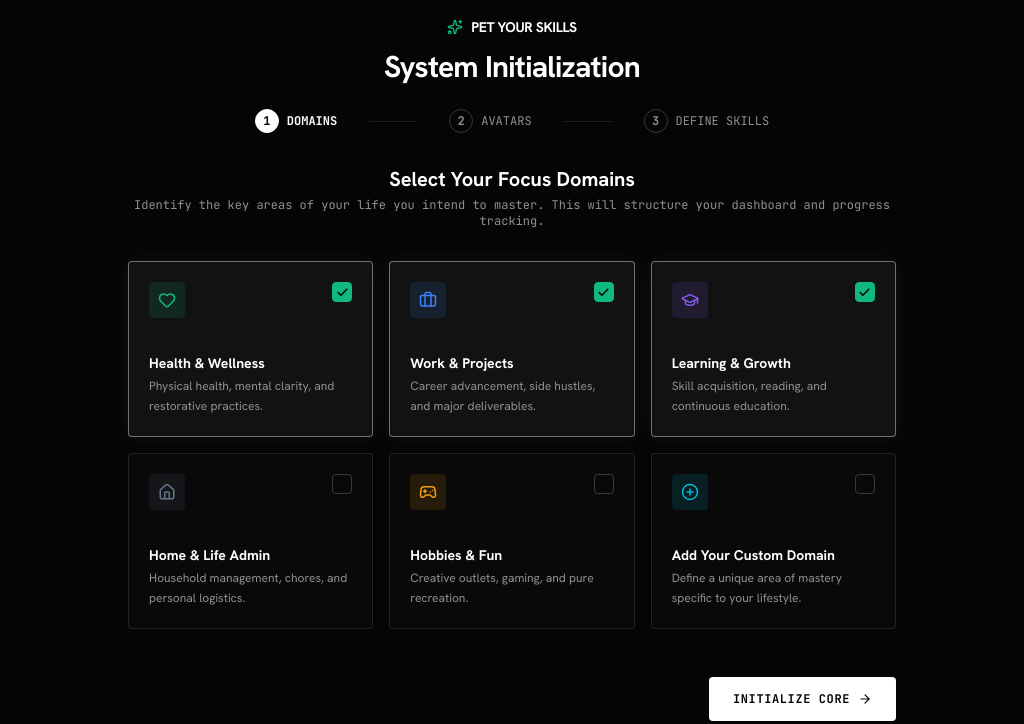
Test case: OnboardingWizard Step 3: Define Skills multi-skill functionality › adds a new skill to the domain when clicking Add Skill / Project
What coordinates should you click on to do the following:
click the button "Initialize Core"
I would click on:
 (802, 699)
Its box is [709,677,896,721].
(page scrolled)
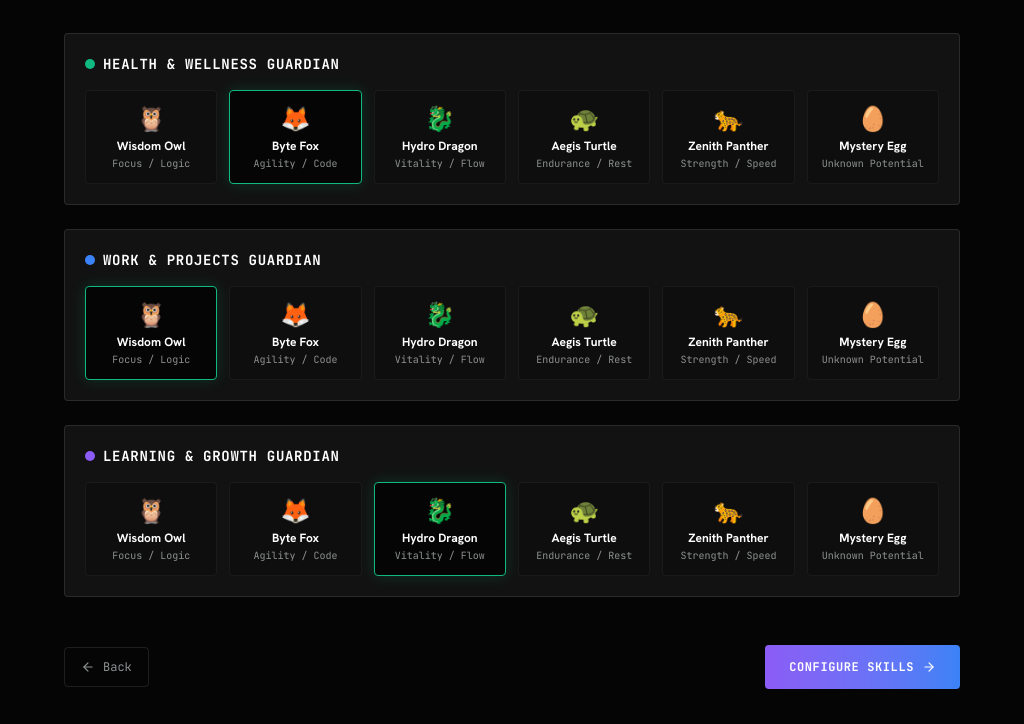
What coordinates should you click on to do the following:
click the button "Configure Skills"
I would click on:
 (863, 667)
Its box is [765,645,960,689].
(page scrolled)
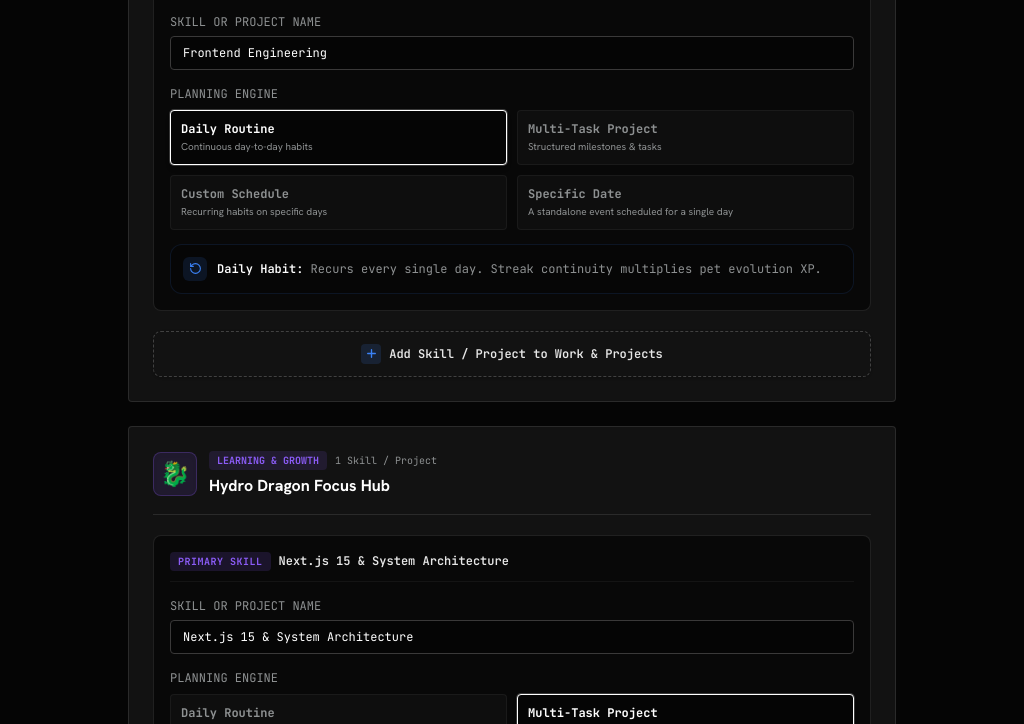
Check: the text "Skill / Project #2" is not shown
What coordinates should you click on to do the following:
click the button "Add Skill / Project to Work & Projects"
I would click on:
 (512, 354)
Its box is [153,330,871,376].
(page scrolled)
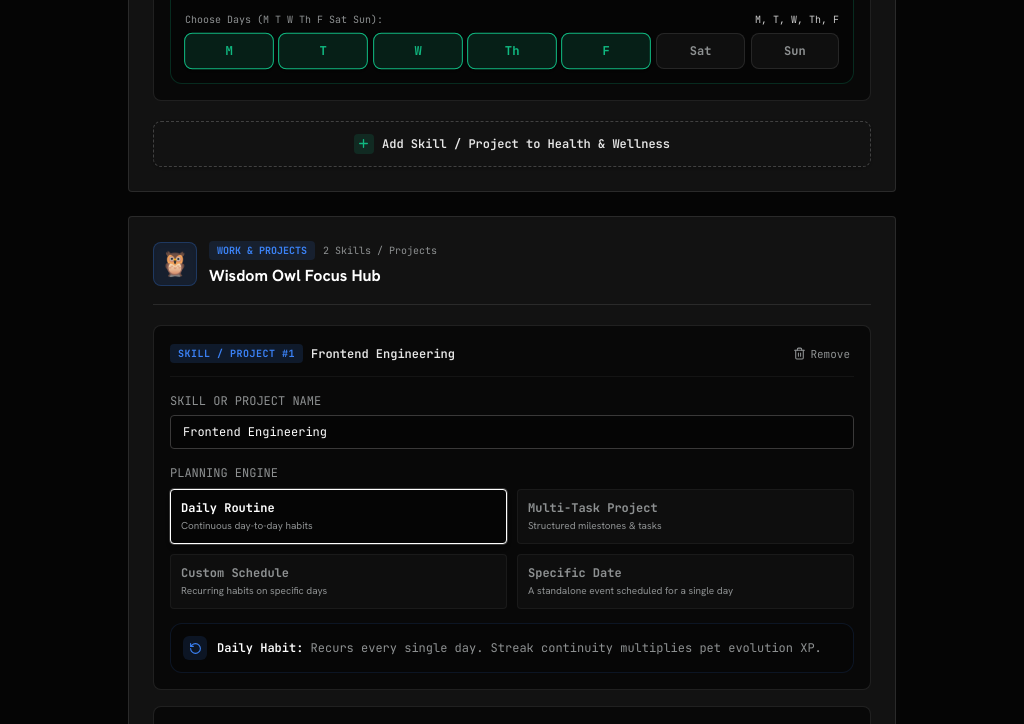
Check: the button "Remove" in the row of "Frontend Engineering" is shown, box [789,342,854,366]
